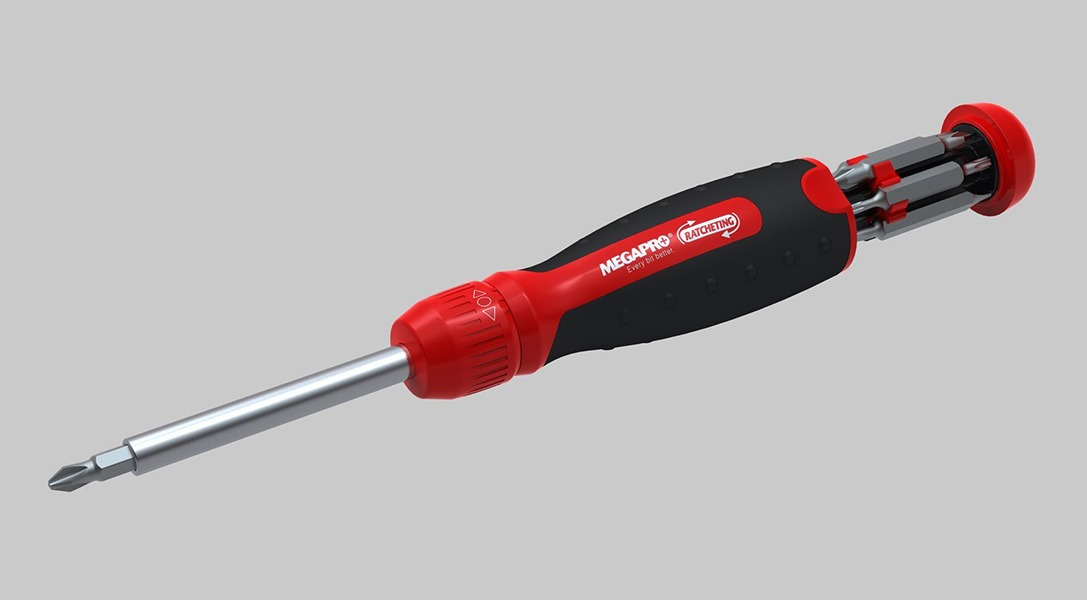screwdriver: (39, 92, 1036, 493)
